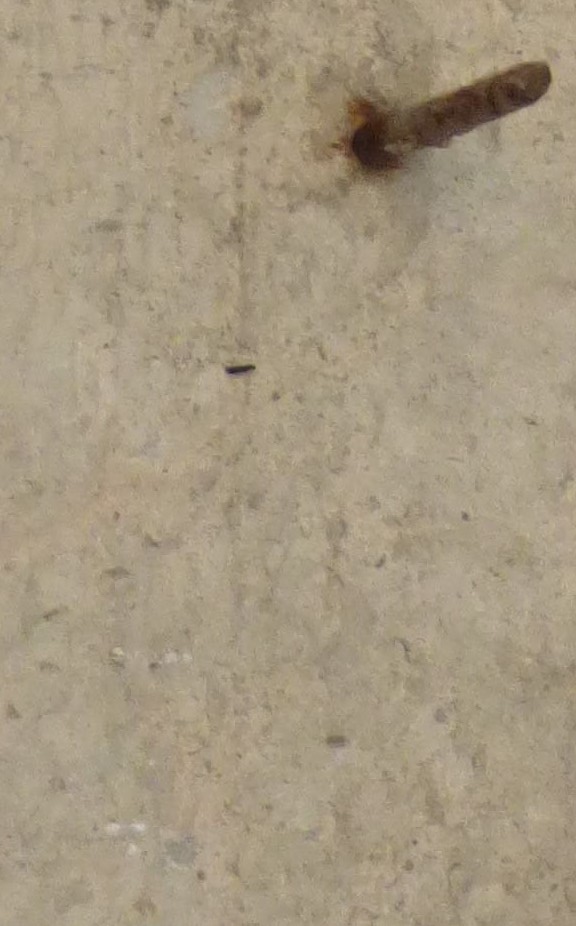Exposed reinforcement: (355, 60, 552, 166)
